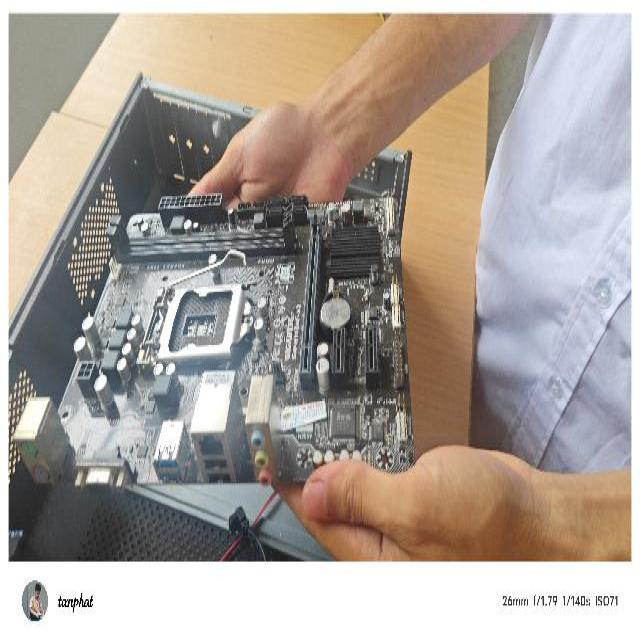Mainboard: (51, 191, 416, 498)
